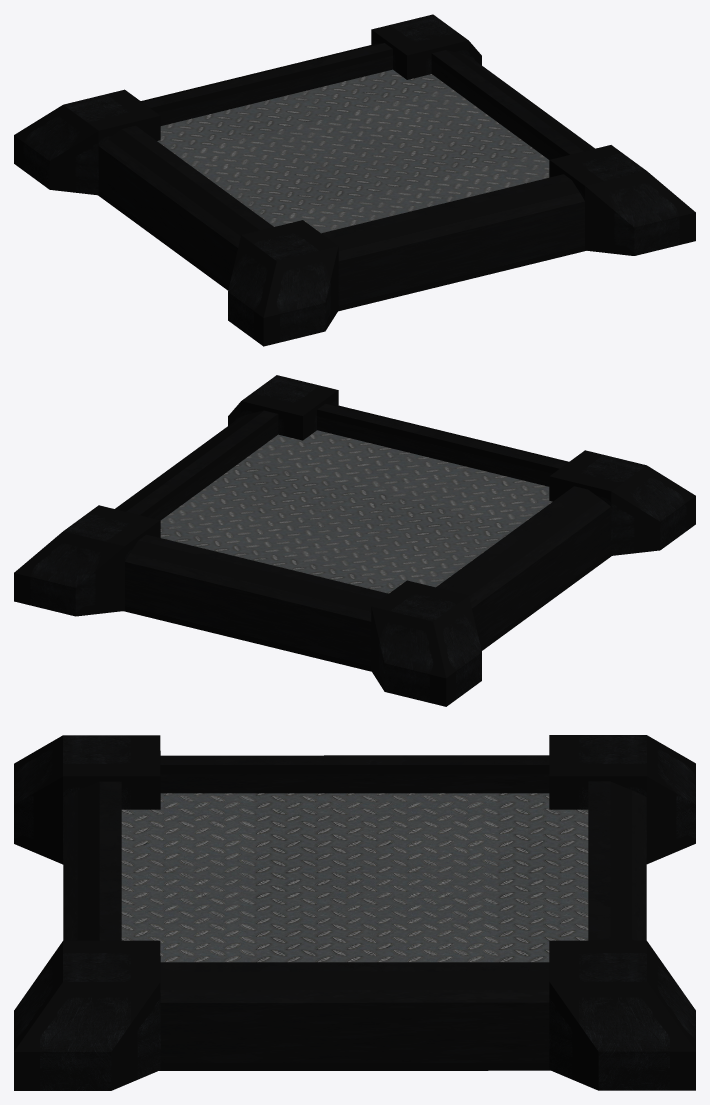
File: PressurePlateConvert.fbx
3 views of the same model, one above another, from view 1: azimuth 30°, elevation 25°; view 2: azimuth 150°, elevation 25°; view 3: azimuth 270°, elevation 25° (orthographic). The views are drawn at different scales.
Parts seen in each view (by area): view 1: Cube, Plane, Cube_001; view 2: Cube, Plane, Cube_001; view 3: Plane, Cube, Cube_001.
Part boxes in pixels (bbox=[...]): Cube: bbox=[98, 43, 594, 311]; Plane: bbox=[157, 69, 549, 233]; Cube_001: bbox=[14, 14, 695, 346]; Cube: bbox=[115, 403, 611, 671]; Plane: bbox=[160, 430, 552, 593]; Cube_001: bbox=[14, 375, 695, 706]; Plane: bbox=[121, 793, 588, 962]; Cube: bbox=[63, 755, 646, 1070]; Cube_001: bbox=[14, 735, 695, 1090].
Bounding box in the file's own units: 280 × 40.5 × 280.
3 materials, 3 textured.
